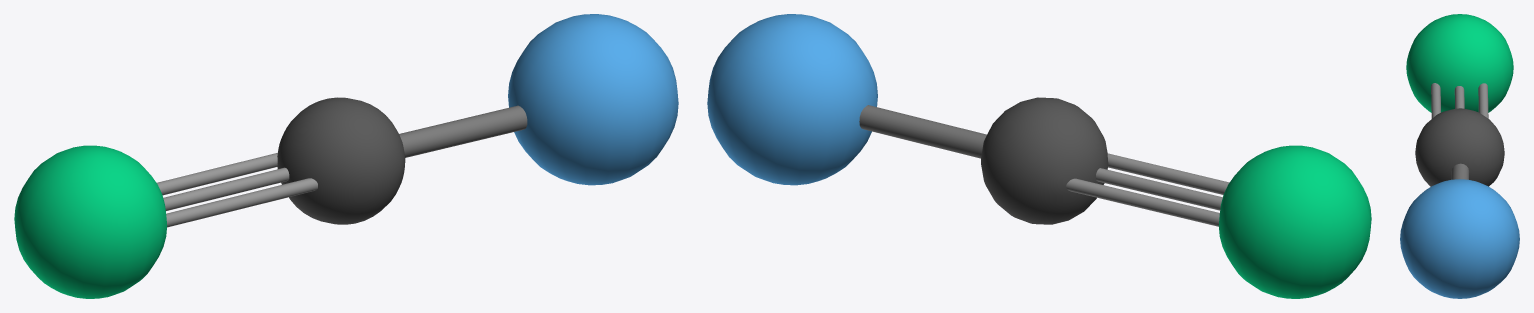
File: NaCN.fbx
The picture shows the model from 3 angles, left to right: view 1: azimuth 30°, elevation 25°; view 2: azimuth 150°, elevation 25°; view 3: azimuth 270°, elevation 25°; orthographic projection. The views are drawn at different scales.
Visible parts, largest first — view 1: NaCN; view 2: NaCN; view 3: NaCN.
Part boxes in pixels (box(x1,y1,x2,y2)): NaCN: box(14, 14, 678, 298); NaCN: box(707, 14, 1371, 298); NaCN: box(1400, 14, 1519, 298).
Size of the model in its own units: 9.67 by 2.23 by 2.23.
